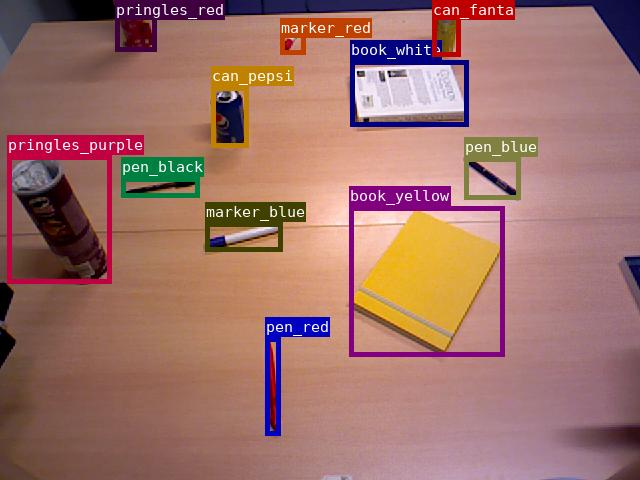book_white: (350, 60, 468, 126)
book_yellow: (349, 206, 504, 356)
can_fanta: (432, 0, 460, 56)
can_pepsi: (211, 86, 248, 147)
marker_blue: (205, 222, 282, 251)
marker_red: (280, 18, 305, 54)
pen_black: (121, 177, 199, 197)
pen_blue: (464, 157, 520, 199)
pen_red: (265, 337, 280, 435)
pringles_purple: (7, 155, 111, 283)
pringles_red: (115, 0, 156, 51)
